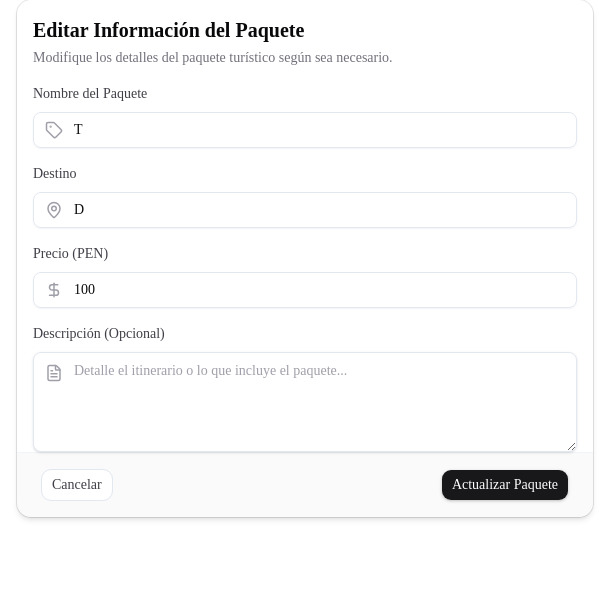
Test: PackageForm › muestra error si falla el submit
Click the button "Actualizar Paquete".
click(505, 485)  # box [441,469,569,501]
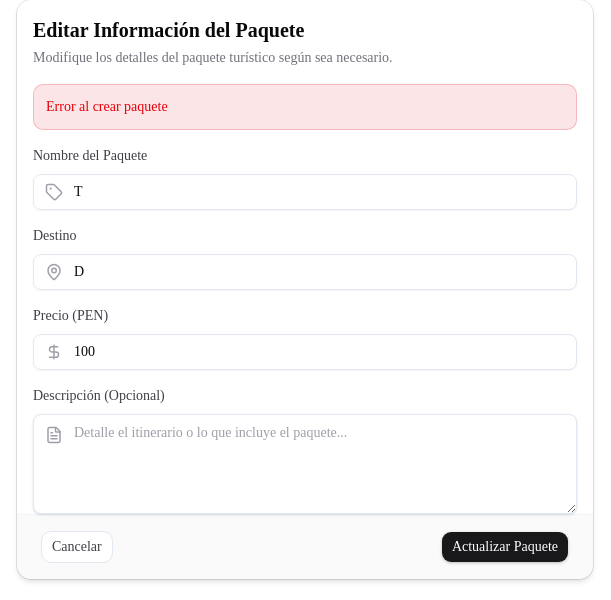
Expected: the text "Error al crear paquete" is shown, [33,84,577,130]
